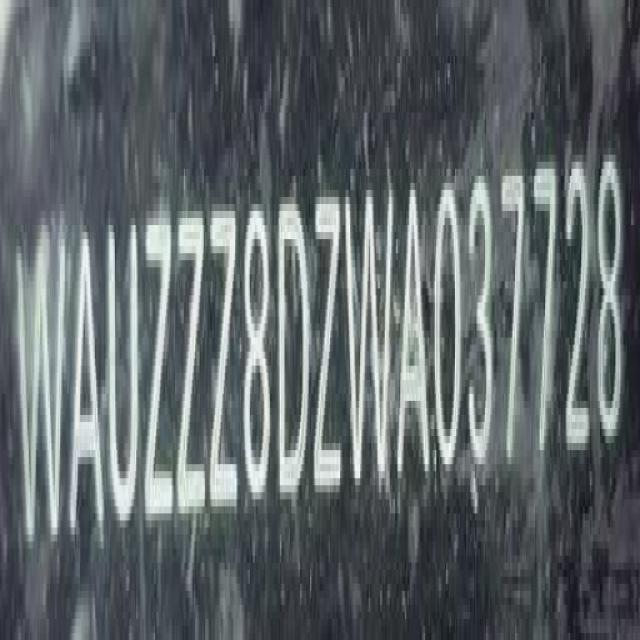0: (432, 179, 462, 485)
2: (563, 152, 591, 458)
3: (467, 169, 493, 474)
7: (531, 154, 560, 473), (502, 168, 528, 474)
8: (242, 204, 271, 516), (599, 152, 625, 447)
A: (71, 214, 105, 552), (398, 180, 432, 492)
D: (277, 198, 311, 516)
U: (108, 207, 142, 536)
W: (17, 216, 68, 567), (346, 177, 395, 503)
Z: (208, 203, 240, 525), (142, 206, 172, 540), (179, 203, 208, 535), (313, 182, 342, 504)
